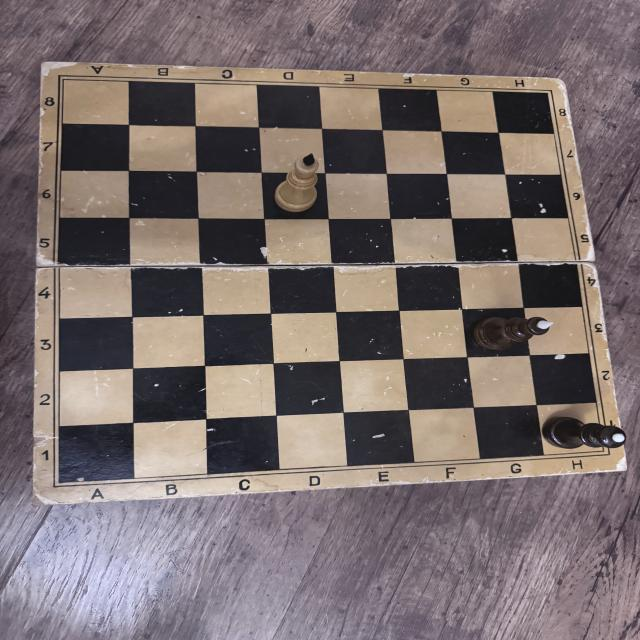black-king: (470, 311, 554, 350)
black-queen: (543, 414, 630, 452)
white-king: (275, 151, 320, 214)
